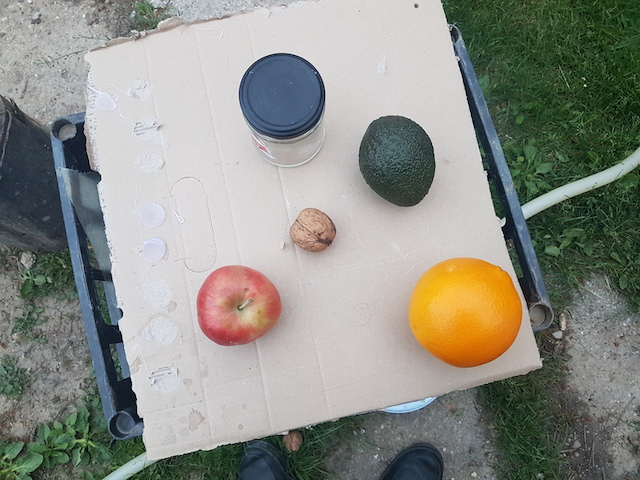apple: (194, 262, 283, 347)
avocado: (355, 110, 439, 209)
nut: (287, 205, 336, 253)
orange: (403, 254, 524, 370)
recipient: (230, 51, 332, 172)
